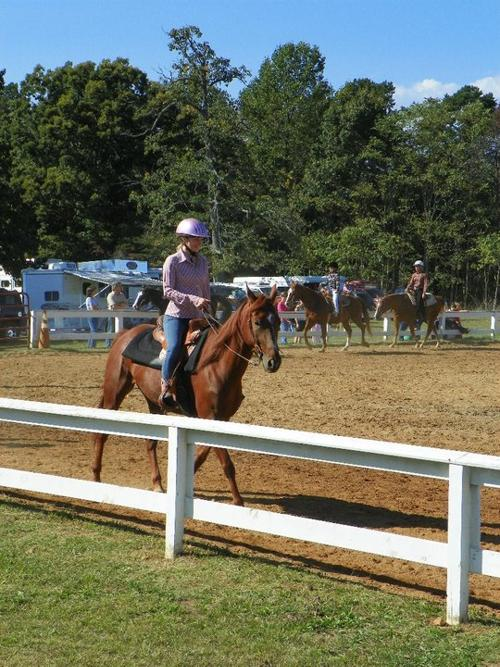person: (159, 214, 212, 415)
